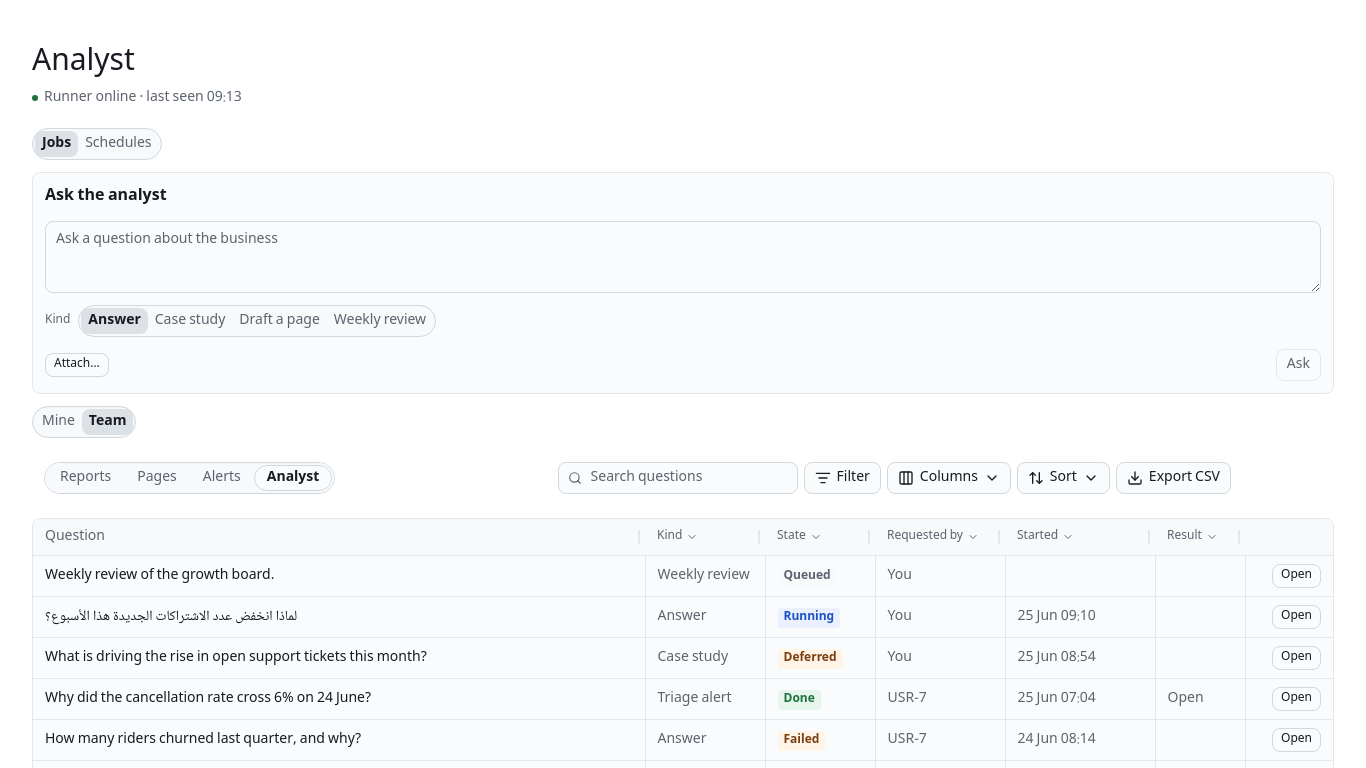
Test: AC-1254 — the analyst view lists jobs with state badges in R7 tones, filters by state, kind and mine/team › filters to Mine, showing only the signed-in operator’s own jobs
The image size is (1366, 768).
Expected: the text "Why did the cancellation rate cross 6% on 24 June?" is shown, [45,689,371,709]
Step 1. Click the tab "Mine" → click(58, 422), box [35,409,82,435]
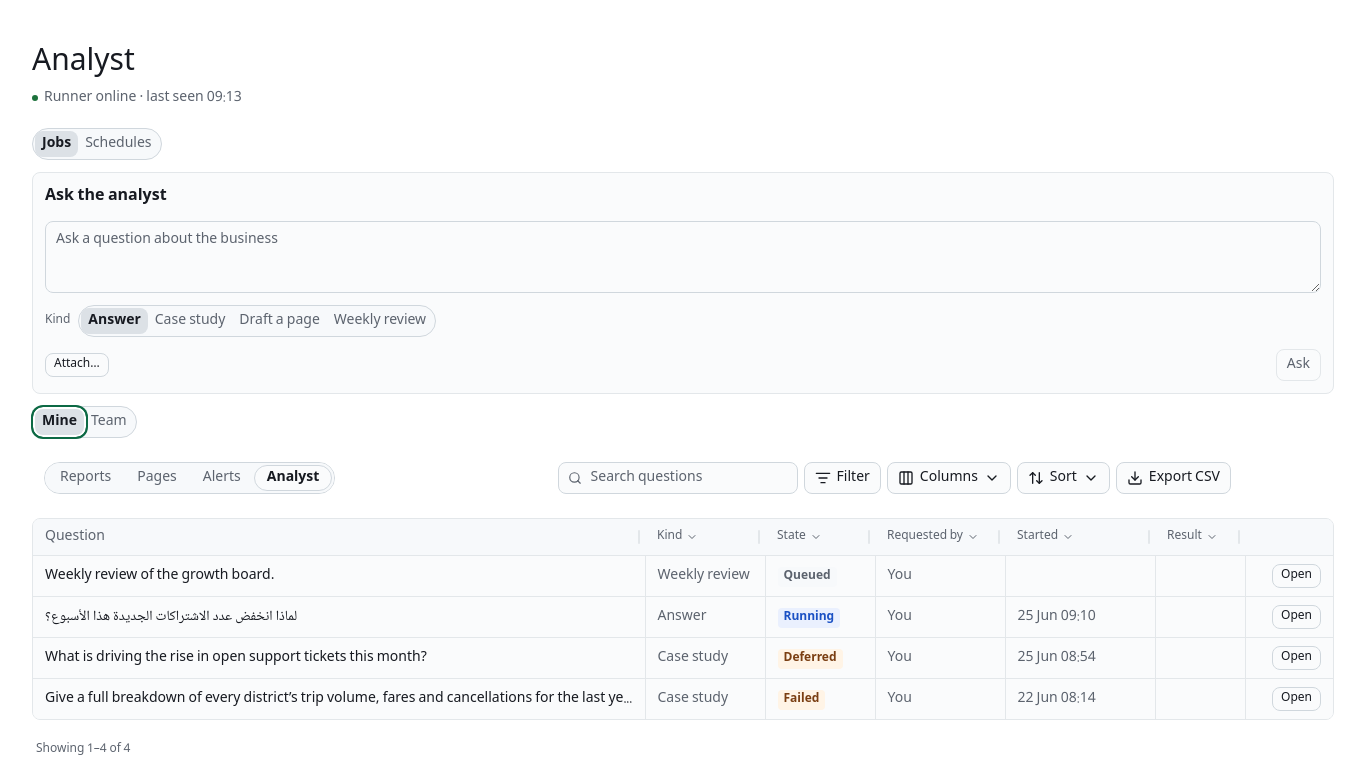
Expected: the text "لماذا انخفض عدد الاشتراكات الجديدة هذا الأسبوع؟" is shown, [45,607,297,627]
Now the text "Why did the cancellation rate cross 6% on 24 June?" is gone
